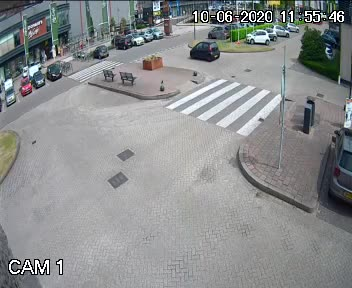car: (184, 38, 218, 66)
